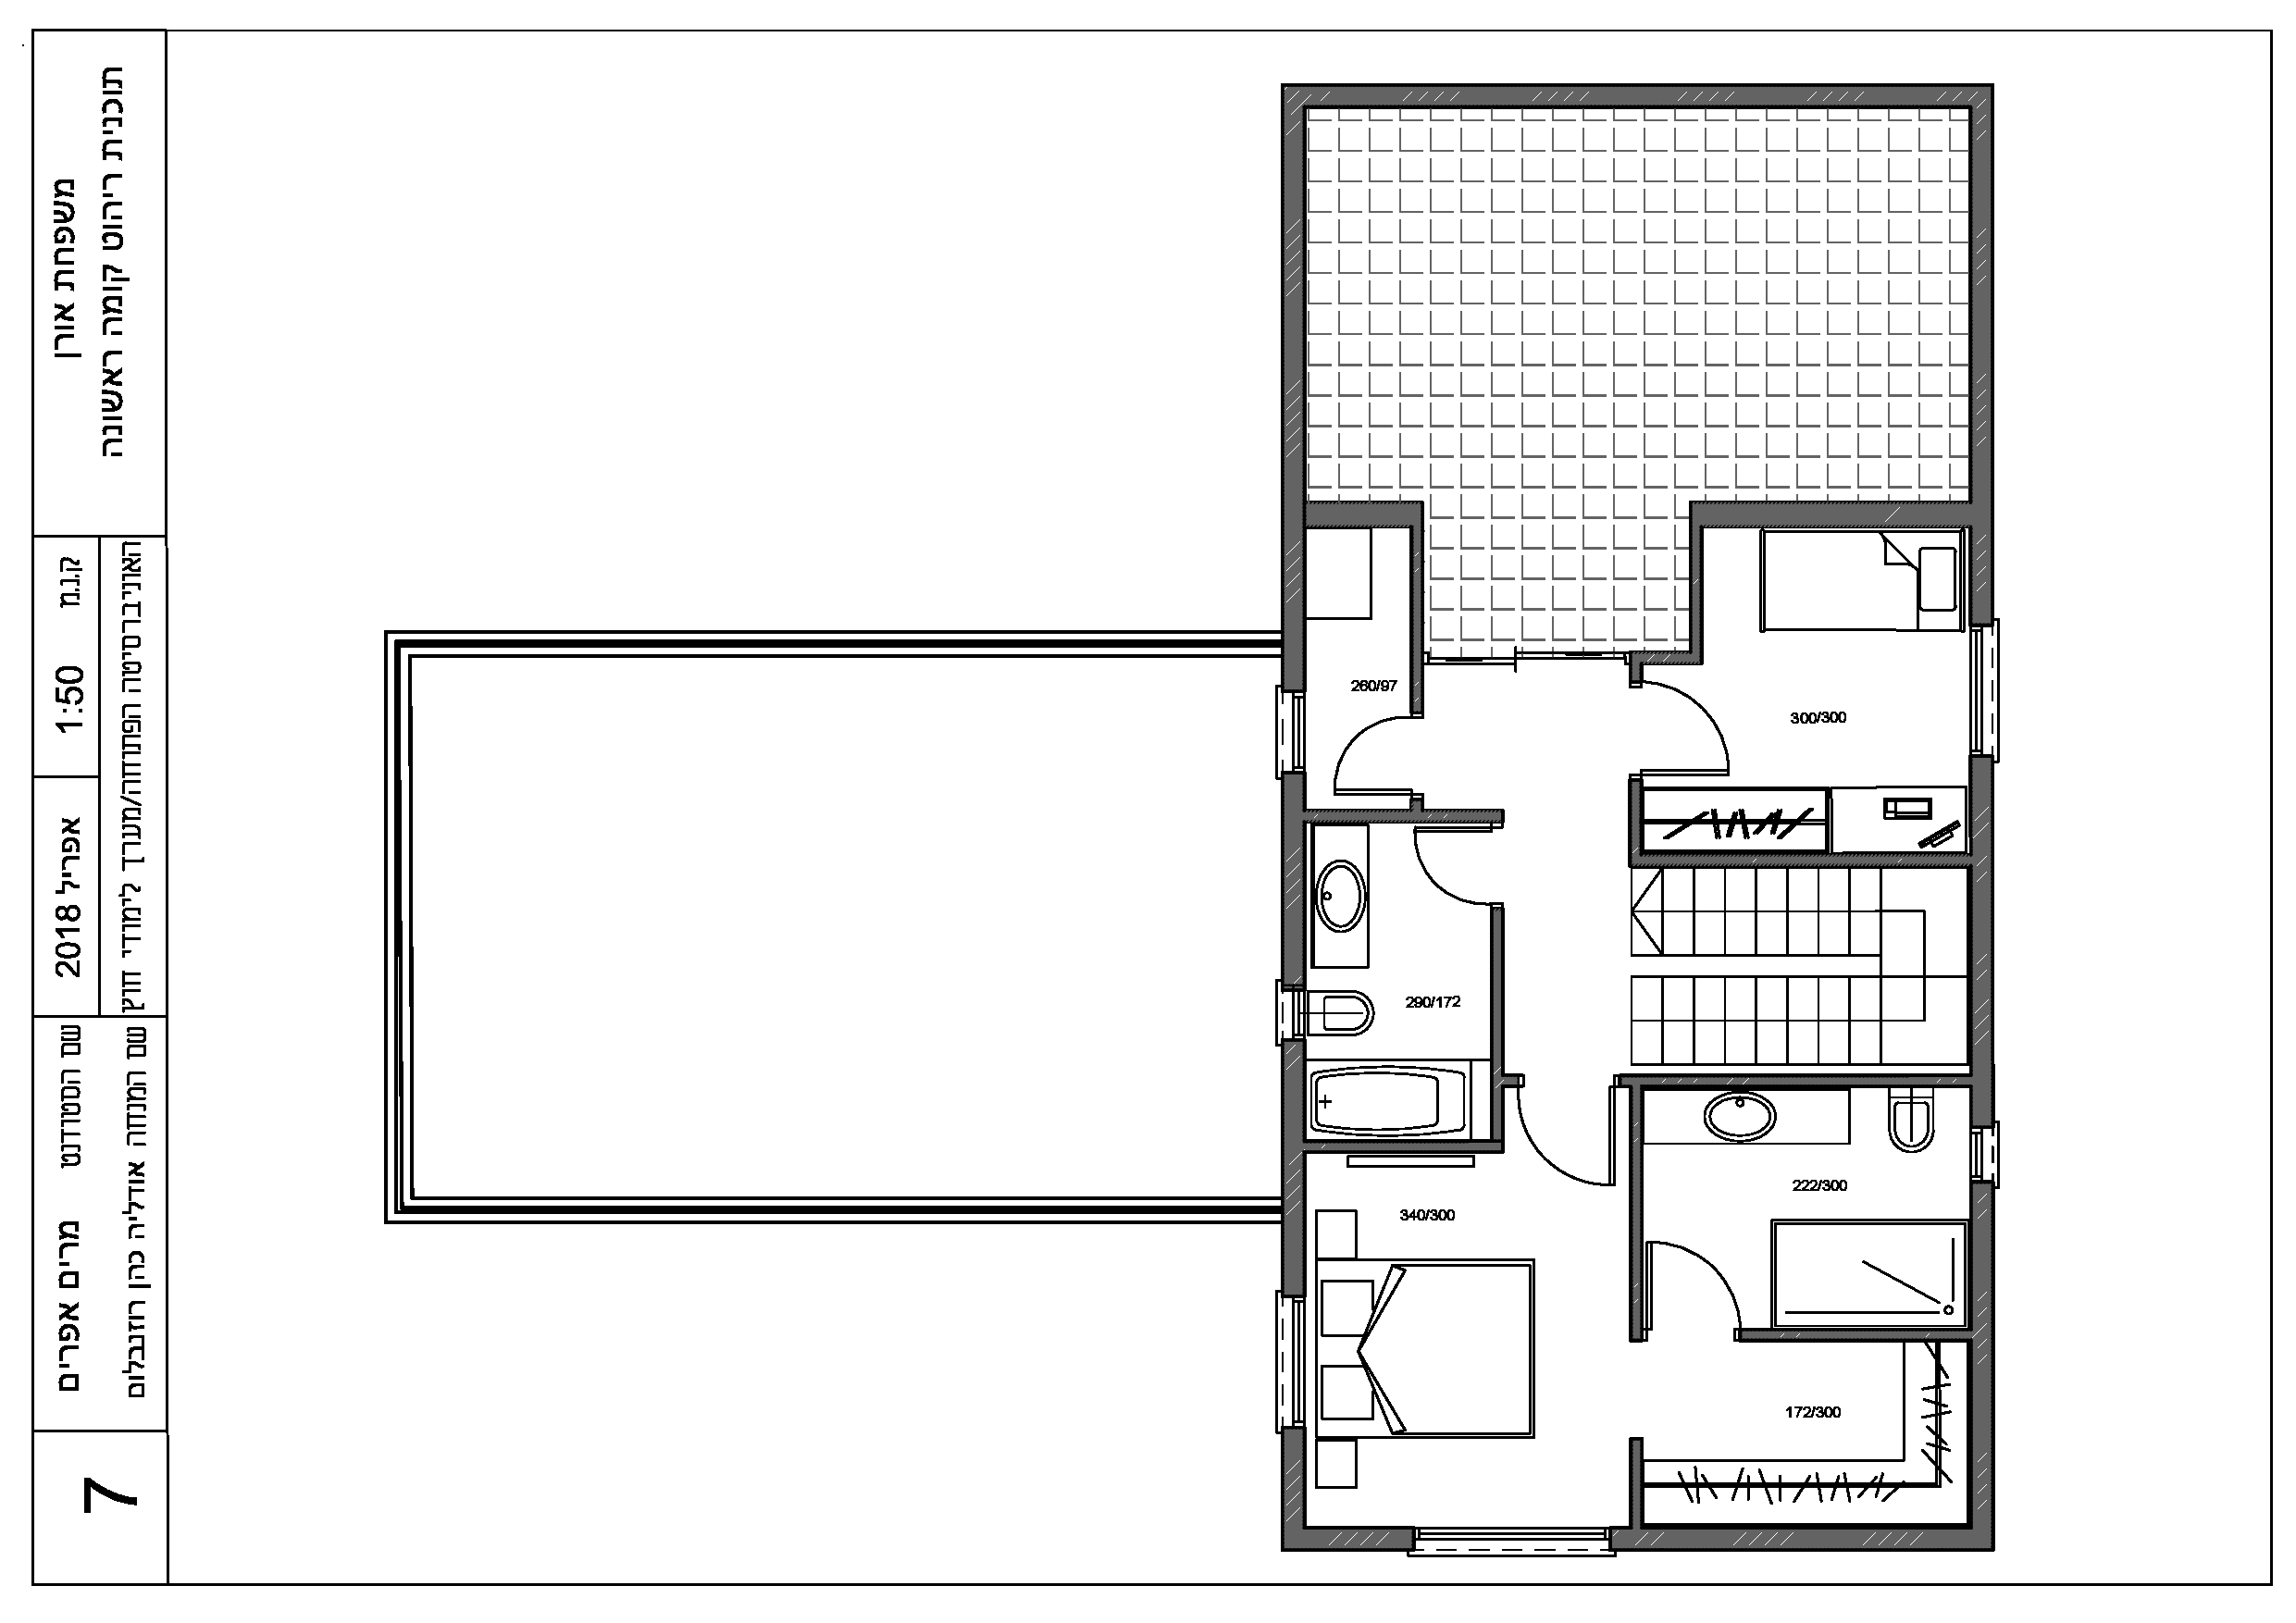door: (1513, 1086, 1623, 1201), (1643, 1233, 1746, 1326), (1648, 676, 1737, 780), (1330, 713, 1411, 801), (1411, 822, 1491, 910)
